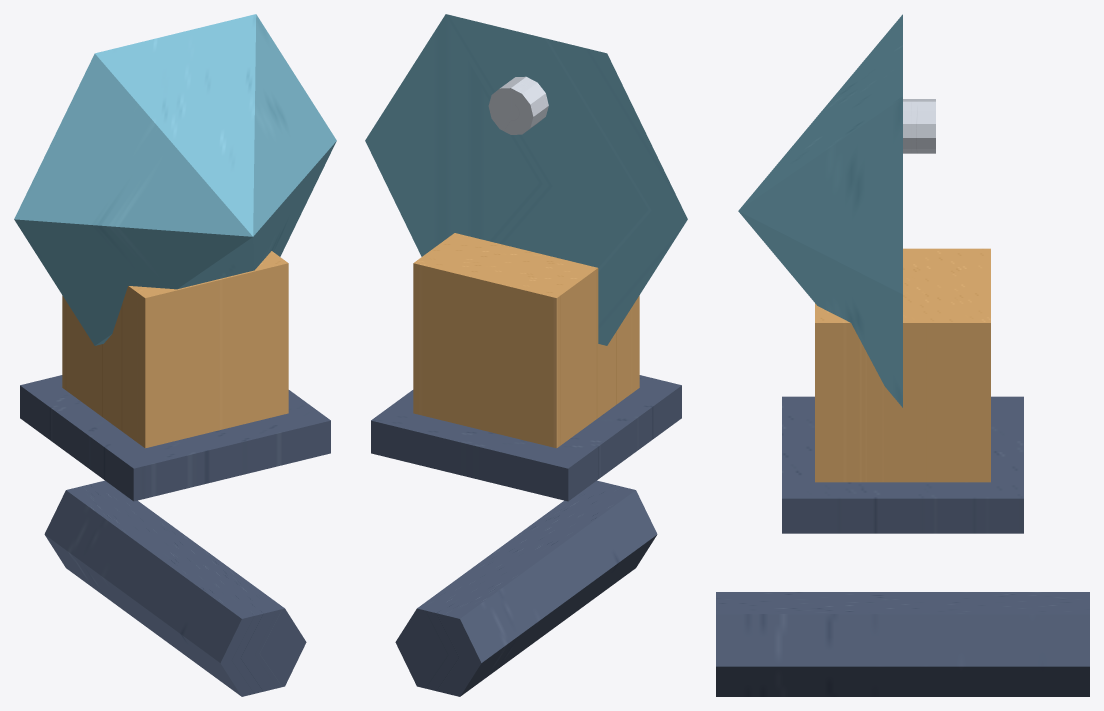
The model's file is ice_lantern_lod1.glb.
3 renders of one model, left to right at view 1: azimuth 30°, elevation 25°; view 2: azimuth 150°, elevation 25°; view 3: azimuth 270°, elevation 25°, orthographic. The views are drawn at different scales.
Parts seen in each view (by area): view 1: ice_3, gold_2, stone_0, stone_1; view 2: ice_3, gold_2, stone_0, stone_1, snow_4; view 3: stone_0, gold_2, ice_3, stone_1, snow_4.
Part boxes in pixels (bbox=[...]): ice_3: bbox=[14, 14, 336, 345]; gold_2: bbox=[62, 251, 288, 448]; stone_0: bbox=[44, 480, 306, 696]; stone_1: bbox=[20, 375, 330, 501]; ice_3: bbox=[365, 14, 687, 345]; gold_2: bbox=[413, 233, 639, 448]; stone_0: bbox=[395, 480, 657, 696]; stone_1: bbox=[371, 375, 681, 501]; snow_4: bbox=[488, 76, 548, 134]; stone_0: bbox=[716, 592, 1089, 696]; gold_2: bbox=[815, 248, 990, 482]; ice_3: bbox=[738, 14, 902, 407]; stone_1: bbox=[782, 396, 1023, 533]; snow_4: bbox=[903, 99, 935, 153].
Size of the model in its own units: 3.6 by 6.32 by 3.4.
4 materials, 4 textured.
